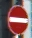No entry: (6, 5, 27, 33)
